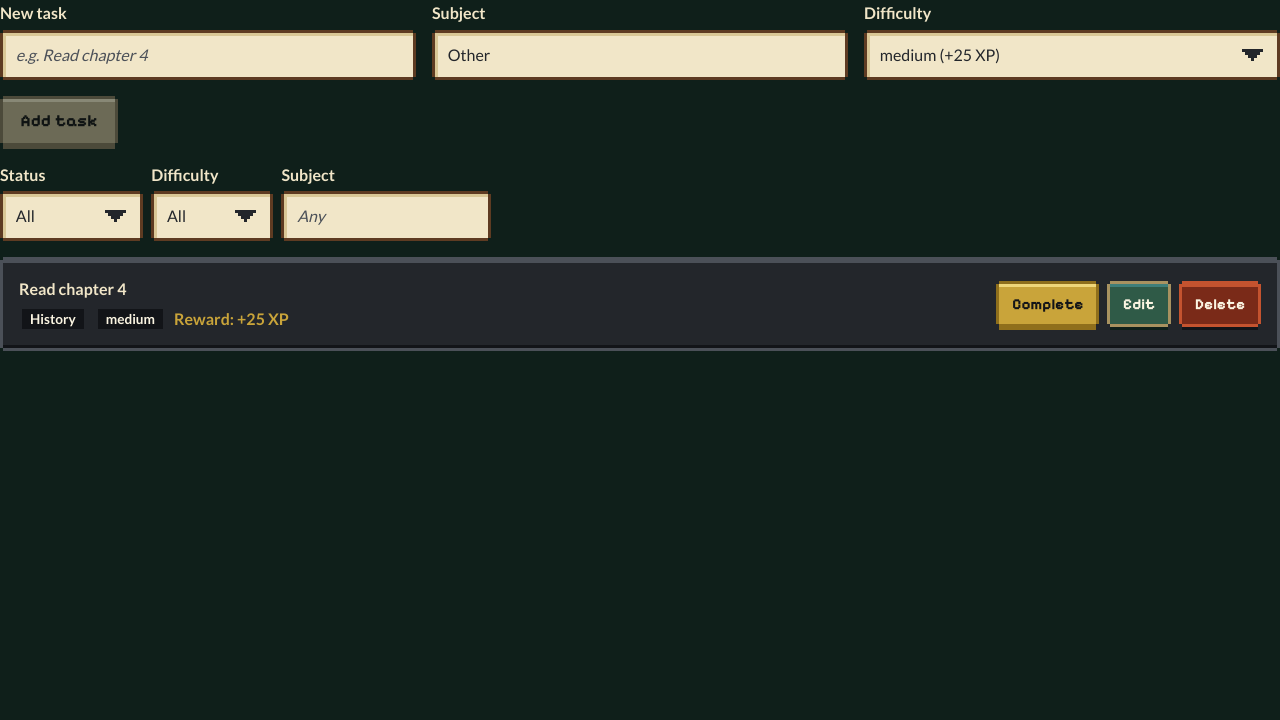
Test case: TasksPanel › asks before deleting
Expected: the text "Read chapter 4" is shown, [19,279,126,298]
Click the button "Delete". click: click(1220, 304)
box: [1182,284,1258,324]
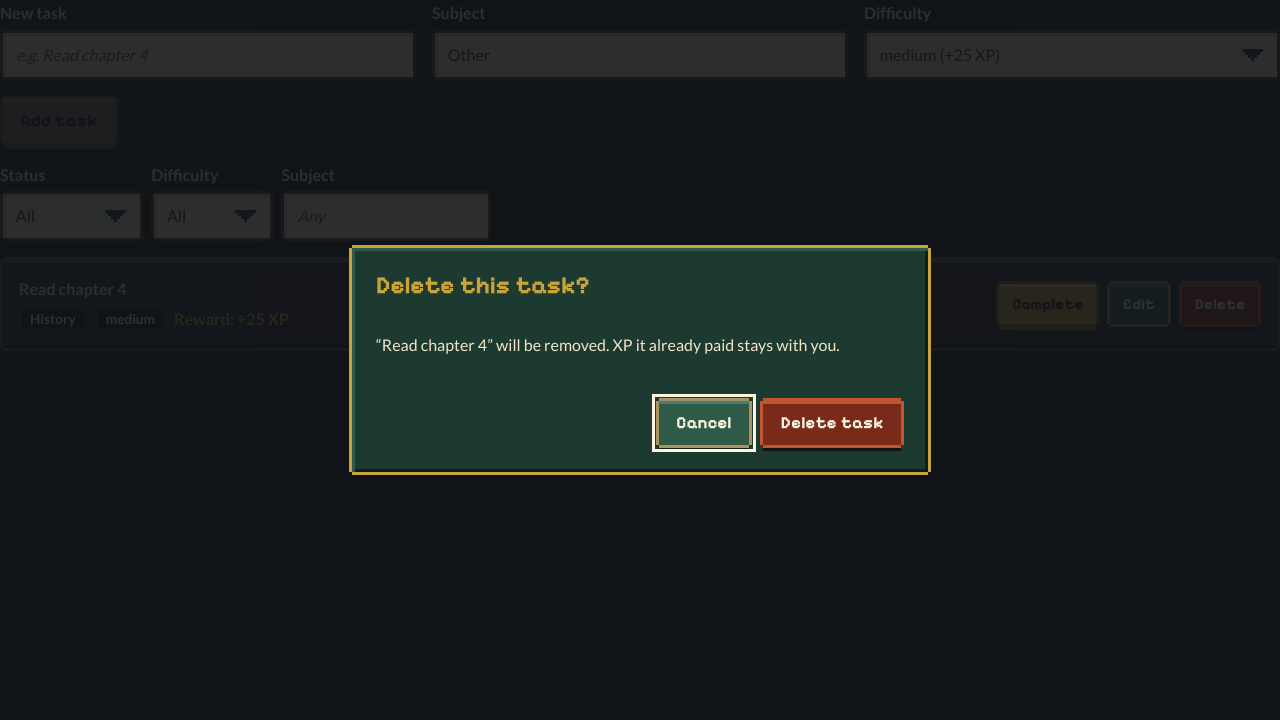
Expected: the dialog "Delete this task?" is shown
Press Escape in the dialog, box [352,248,928,472]
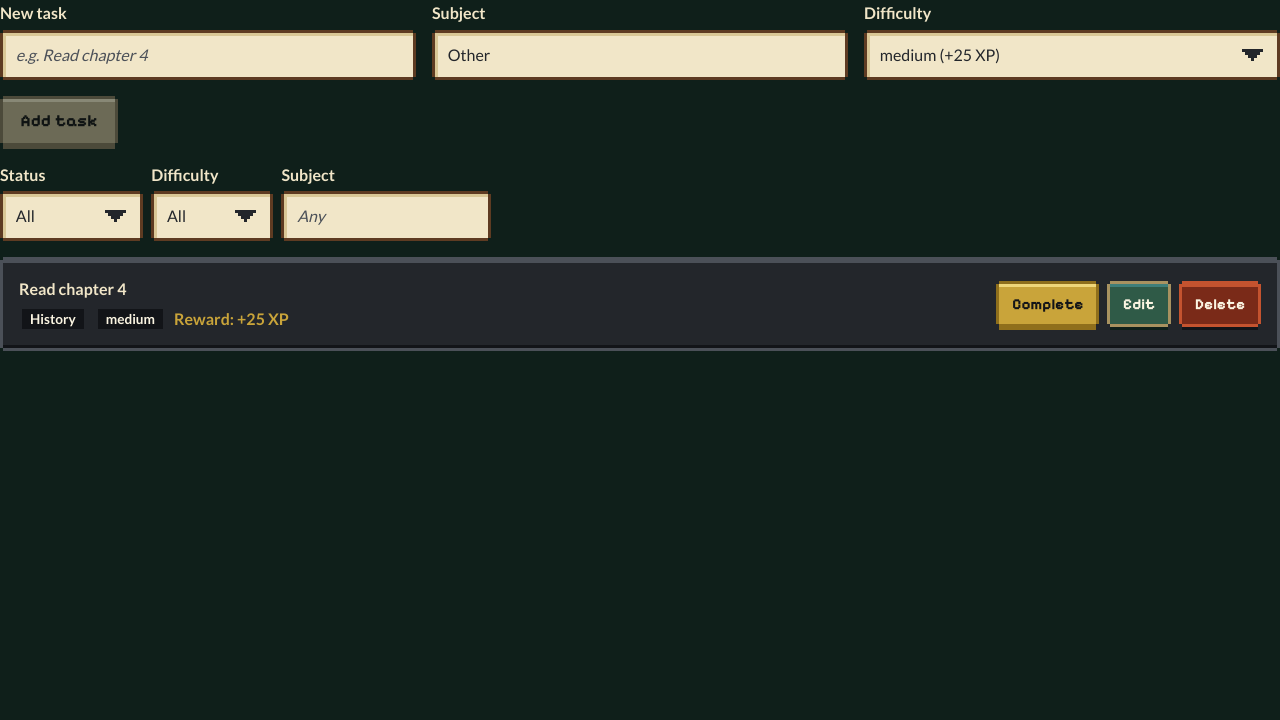
Expected: the dialog is gone
